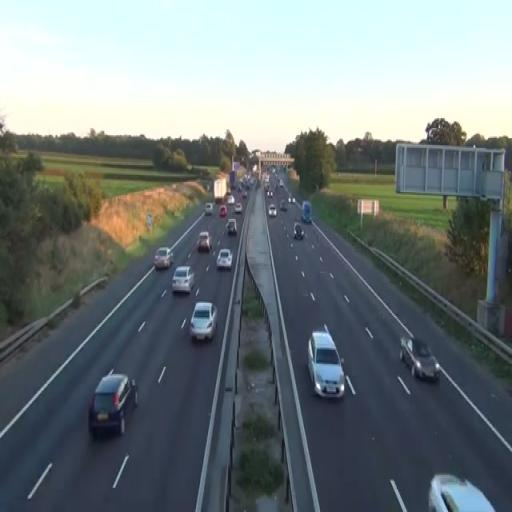Car: (88, 374, 139, 440), (307, 328, 346, 400), (428, 473, 494, 512), (399, 334, 440, 383), (189, 302, 218, 342), (172, 265, 194, 295), (153, 246, 173, 270), (216, 248, 232, 271), (197, 231, 212, 253), (294, 221, 304, 240), (228, 219, 237, 236), (204, 202, 214, 216), (218, 204, 228, 218)
